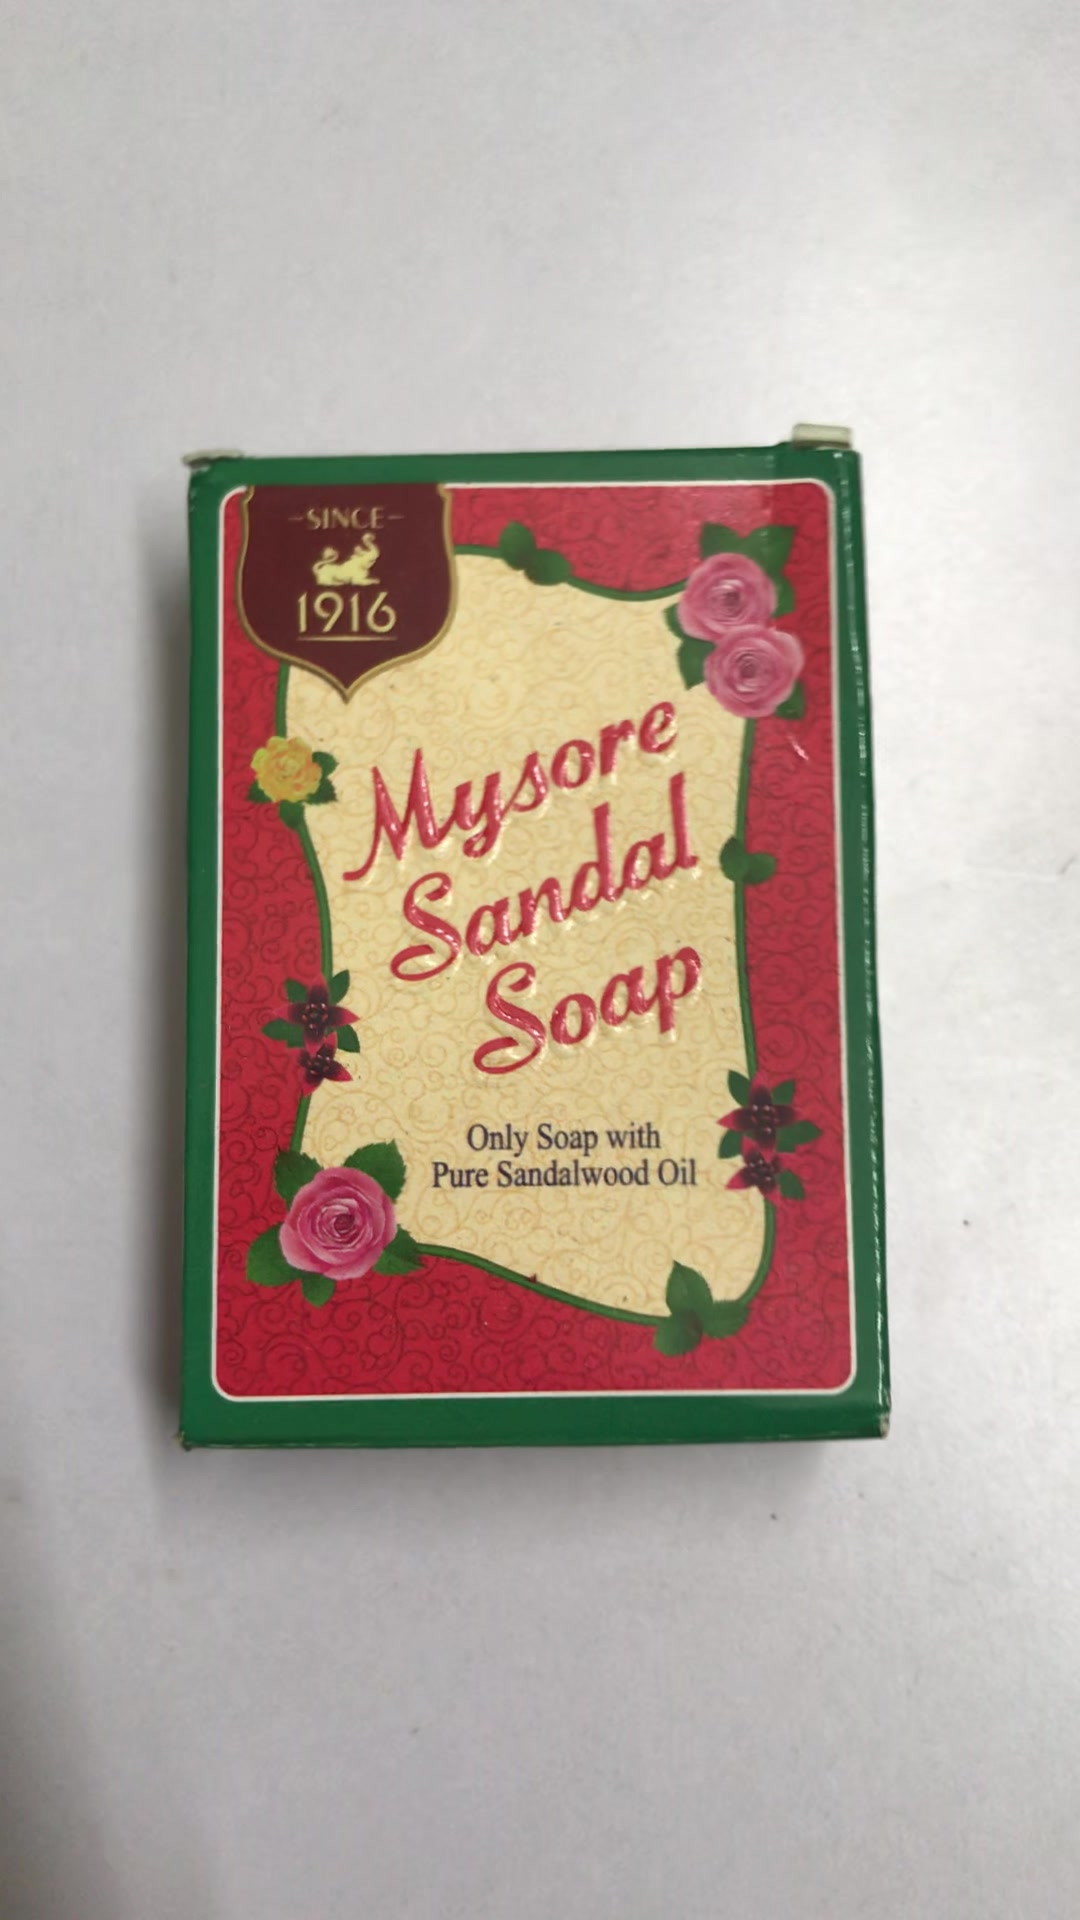mysore sandal soap: (185, 442, 868, 1444)
